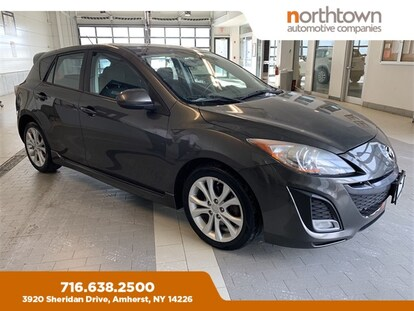Mazda3 Hatchback: (12, 40, 408, 258)
